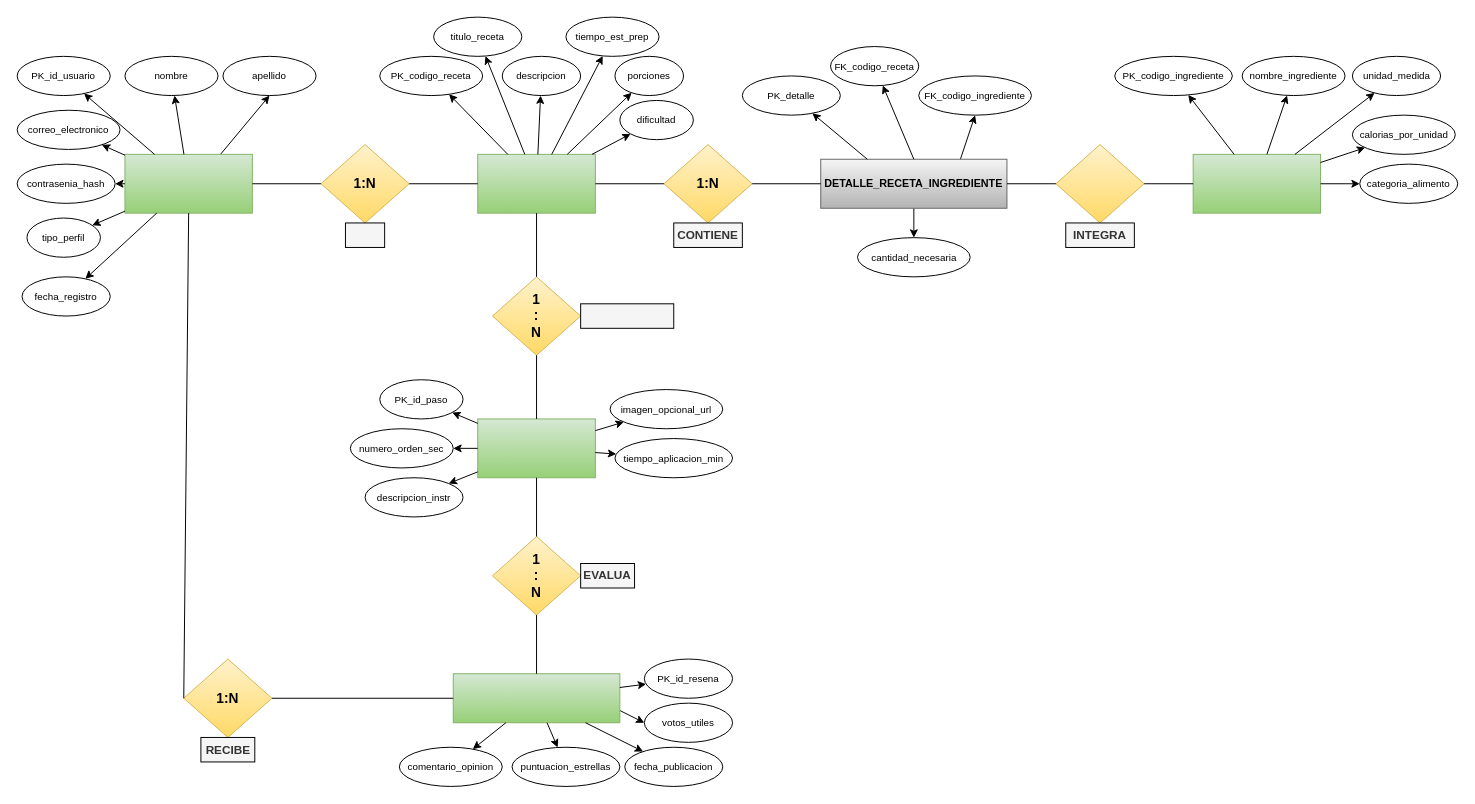
The diagram is 1475 pixels wide and 804 high, and some of its shapes have lost their labels. The centre of each missing label's shape, as x and y in pixels:
"CREA" goes at (x=364, y=234).
"ESTRUCTURA" goes at (x=627, y=315).
"INGREDIENTE" goes at (x=1256, y=183).
"MIEMBRO" goes at (x=188, y=183).
"N:1" goes at (x=1099, y=183).
"PASO_RECETA" goes at (x=536, y=448).
"RECETA" goes at (x=536, y=183).
"RESEÑA" goes at (x=536, y=698).
